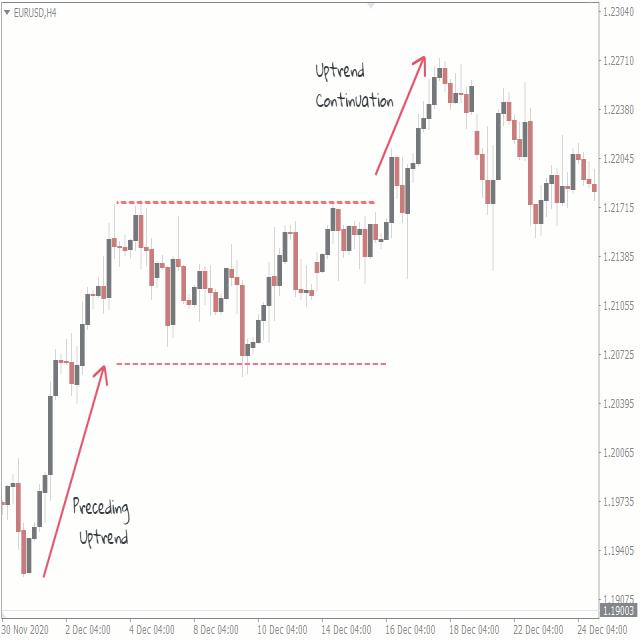rectangle: (113, 208, 384, 360)
